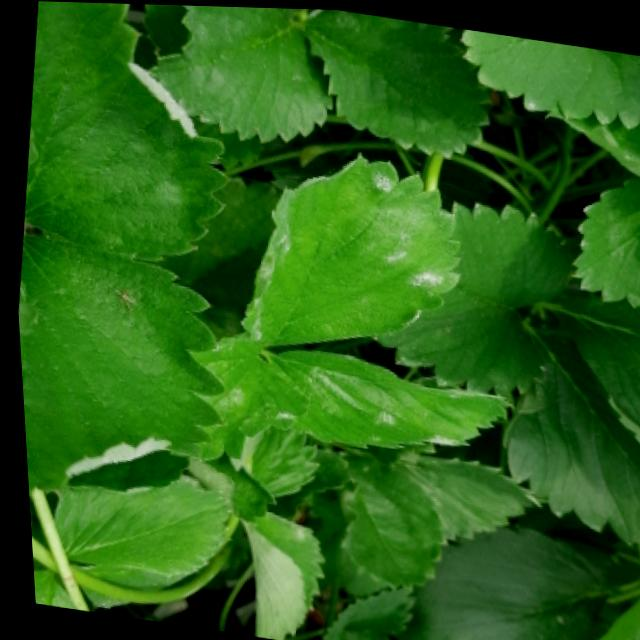Powdery Mildew Leaf: (20, 1, 226, 260), (14, 234, 219, 493), (236, 148, 457, 346), (268, 346, 506, 447), (177, 330, 301, 465), (236, 509, 318, 639)
